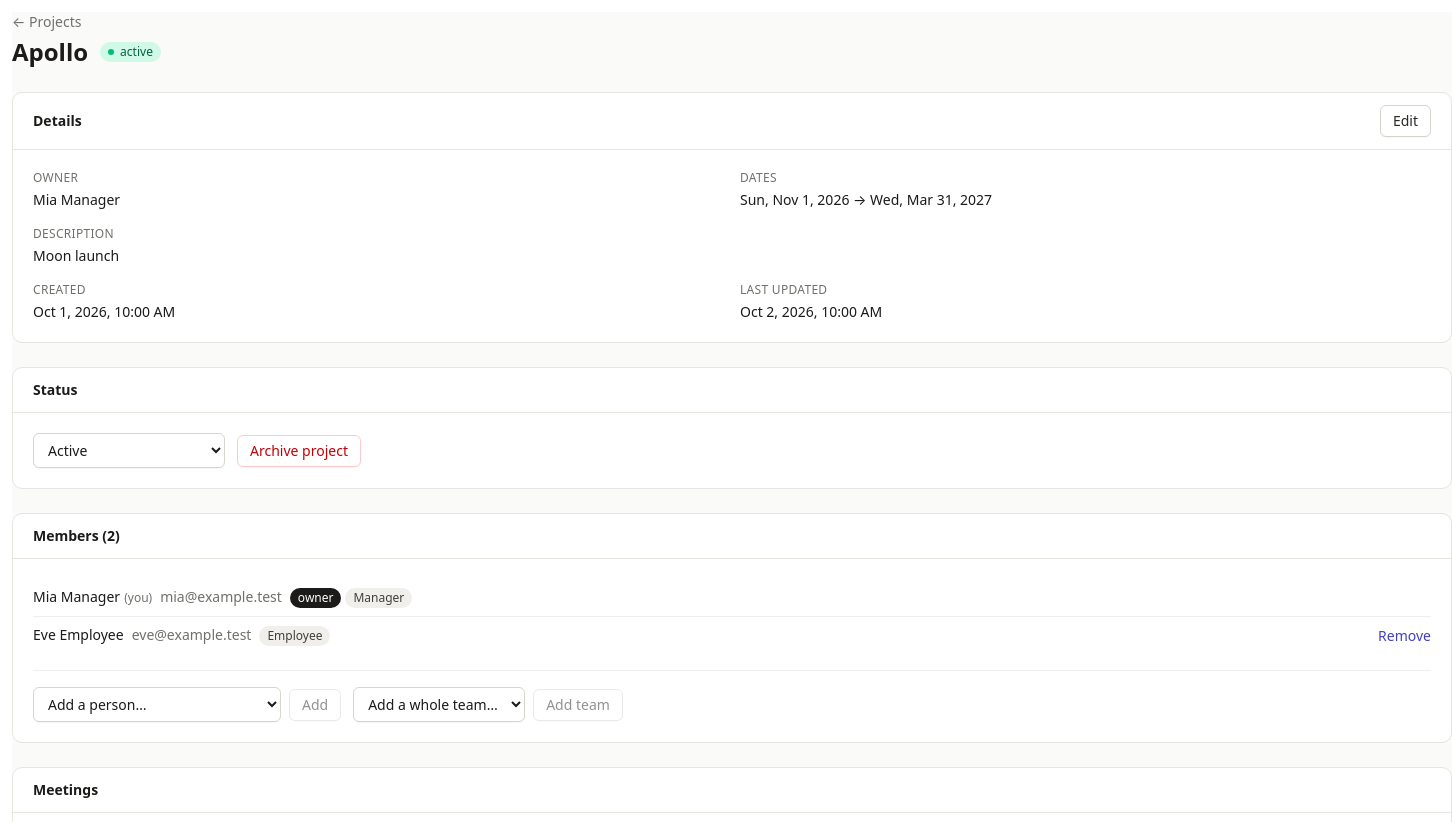
Test: Project detail › shows membership errors from the server
Select "Eli New (eli@example.test)" in the dropdown named "Person to add": (157, 704) [33, 687, 281, 722]
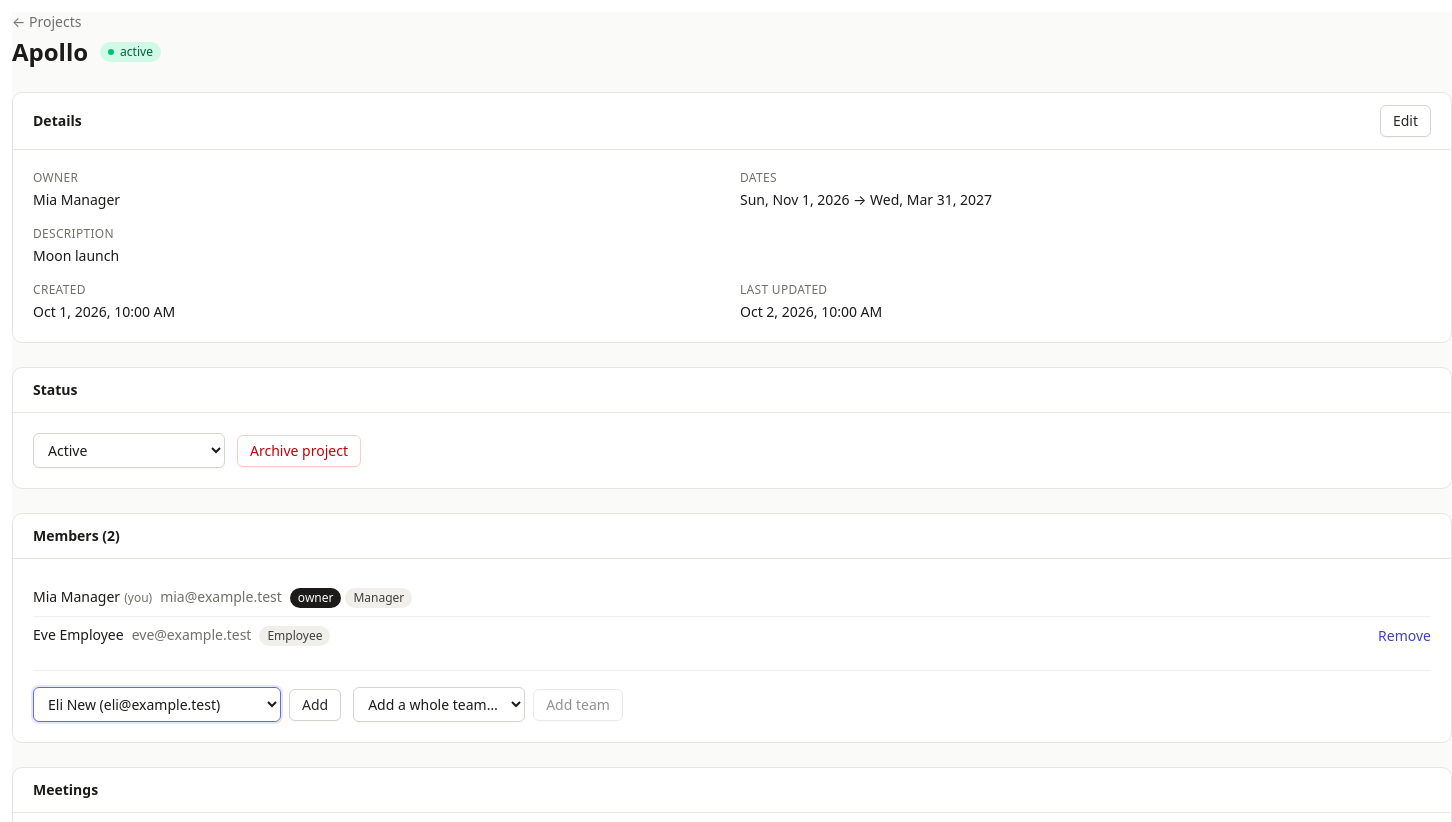
Click the button "Add": (315, 704) [289, 688, 341, 720]
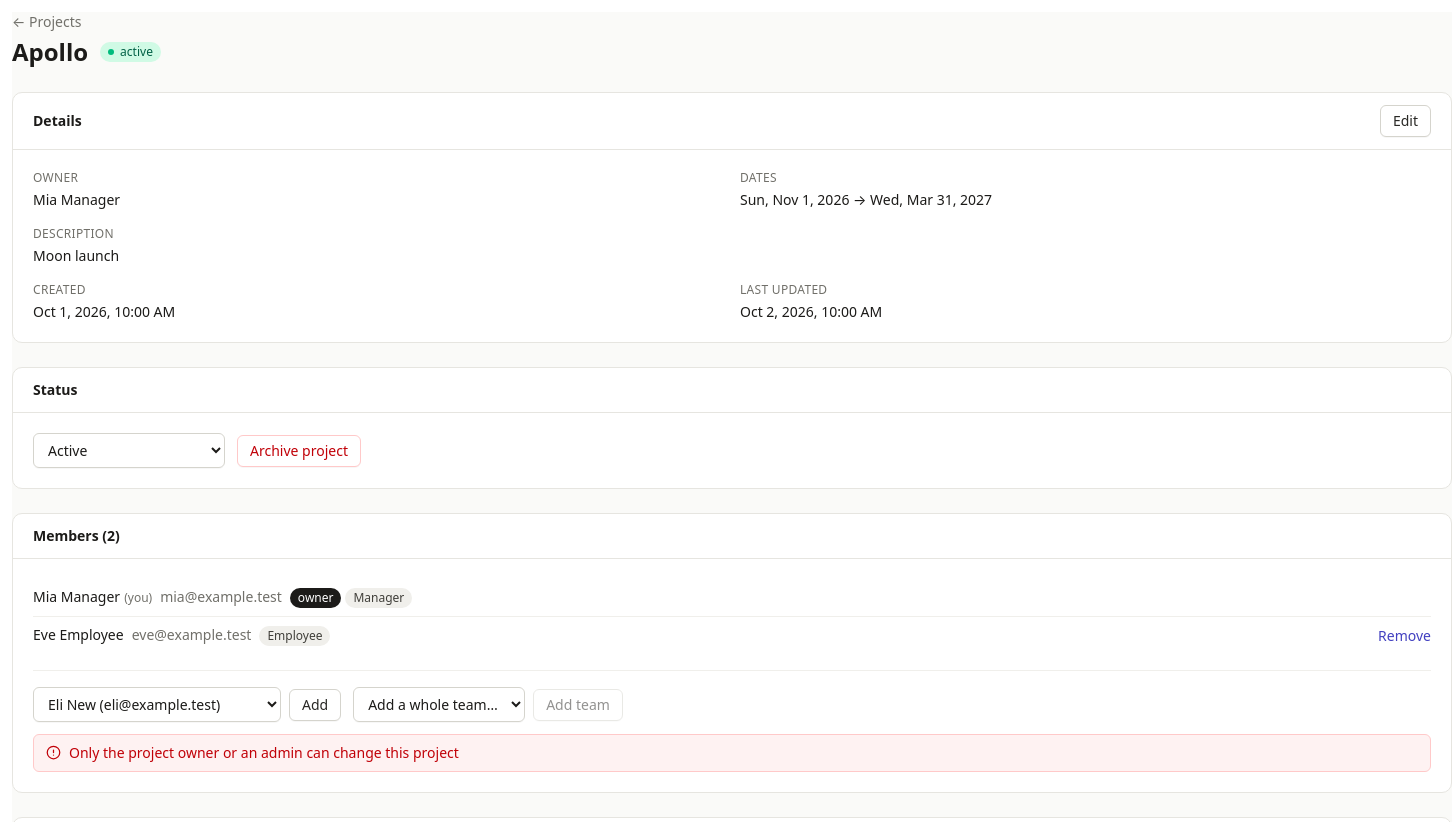
expect the message shows "Only the project owner or an admin": met, box [69, 743, 459, 762]
